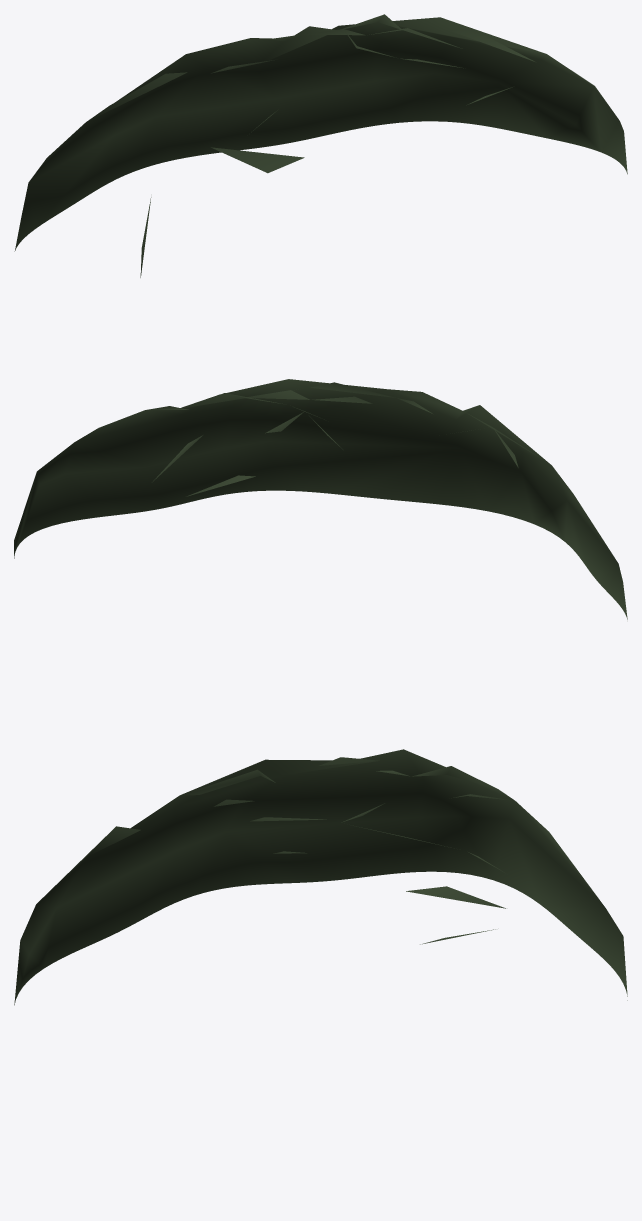
The model's file is massive-stromatoporoid.glb.
The picture shows the model from 3 angles, top to bottom: view 1: azimuth 30°, elevation 25°; view 2: azimuth 150°, elevation 25°; view 3: azimuth 270°, elevation 25°; orthographic projection. The views are drawn at different scales.
Visible parts, largest first — view 1: massive-stromatoporoid; view 2: massive-stromatoporoid; view 3: massive-stromatoporoid.
Boxes of the visible parts, box(x1,y1,x2,y2) form: massive-stromatoporoid: box(14, 14, 627, 277); massive-stromatoporoid: box(14, 379, 627, 619); massive-stromatoporoid: box(14, 749, 627, 1005).
Size of the model in its own units: 2.24 by 0.7 by 1.73.
